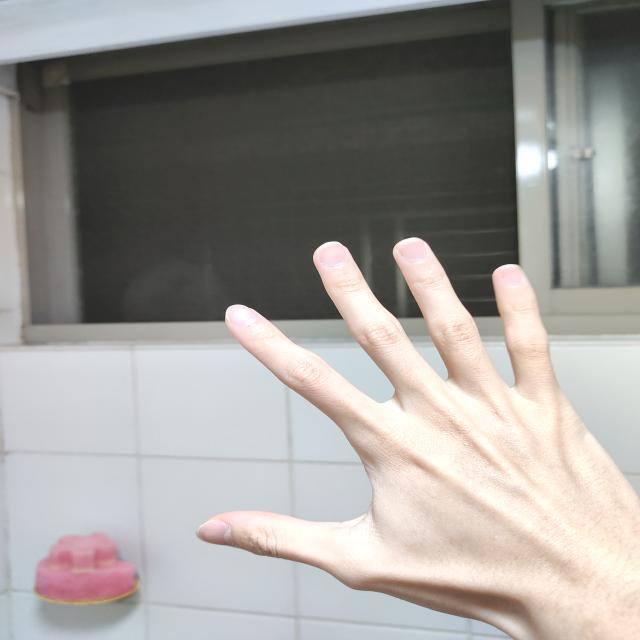no_glove: (185, 224, 640, 640)
